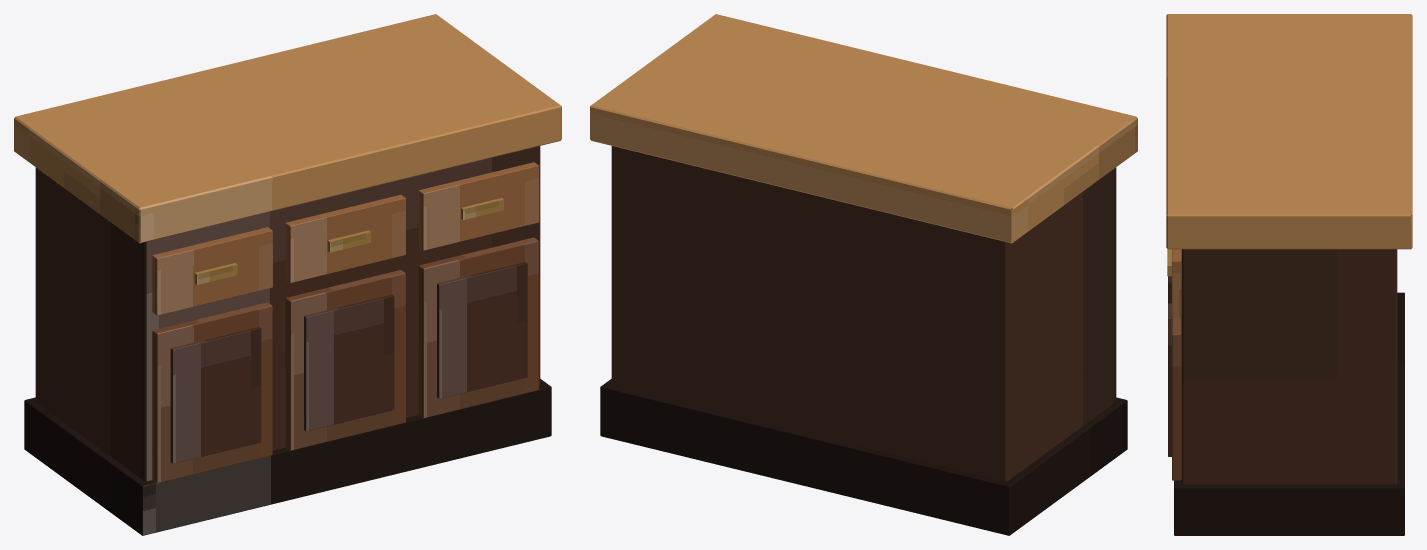
Rendered from wooden_dresser_sideboard.glb.
The picture shows the model from 3 angles, left to right: view 1: azimuth 30°, elevation 25°; view 2: azimuth 150°, elevation 25°; view 3: azimuth 270°, elevation 25°; orthographic projection. The views are drawn at different scales.
Parts seen in each view (by area): view 1: DresserTop, DresserBody, DresserPlinth, DoorInset_1, DoorInset_3, DoorInset_2, LowerDoor_3, LowerDoor_1, LowerDoor_2, TopDrawer_3, TopDrawer_1, TopDrawer_2; view 2: DresserBody, DresserTop, DresserPlinth; view 3: DresserTop, DresserBody, DresserPlinth, LowerDoor_3, TopDrawer_3, DoorInset_3.
Boxes of the visible parts, x1,y1,x2,y2 form: DresserTop: [14, 14, 561, 243]; DresserBody: [35, 146, 540, 486]; DresserPlinth: [24, 379, 551, 535]; DoorInset_1: [170, 327, 261, 463]; DoorInset_3: [437, 262, 527, 398]; DoorInset_2: [304, 294, 394, 431]; LowerDoor_3: [418, 237, 538, 418]; LowerDoor_1: [152, 302, 272, 483]; LowerDoor_2: [285, 270, 405, 450]; TopDrawer_3: [418, 162, 539, 250]; TopDrawer_1: [152, 227, 272, 315]; TopDrawer_2: [285, 194, 405, 282]; DresserBody: [611, 146, 1116, 481]; DresserTop: [590, 14, 1137, 243]; DresserPlinth: [600, 379, 1127, 535]; DresserTop: [1166, 14, 1412, 249]; DresserBody: [1181, 249, 1397, 484]; DresserPlinth: [1174, 292, 1404, 535]; LowerDoor_3: [1172, 316, 1181, 480]; TopDrawer_3: [1172, 249, 1181, 316]; DoorInset_3: [1168, 303, 1171, 456].
Size of the model in its own units: 1.24 by 0.93 by 0.64.
1 material, 1 textured.
